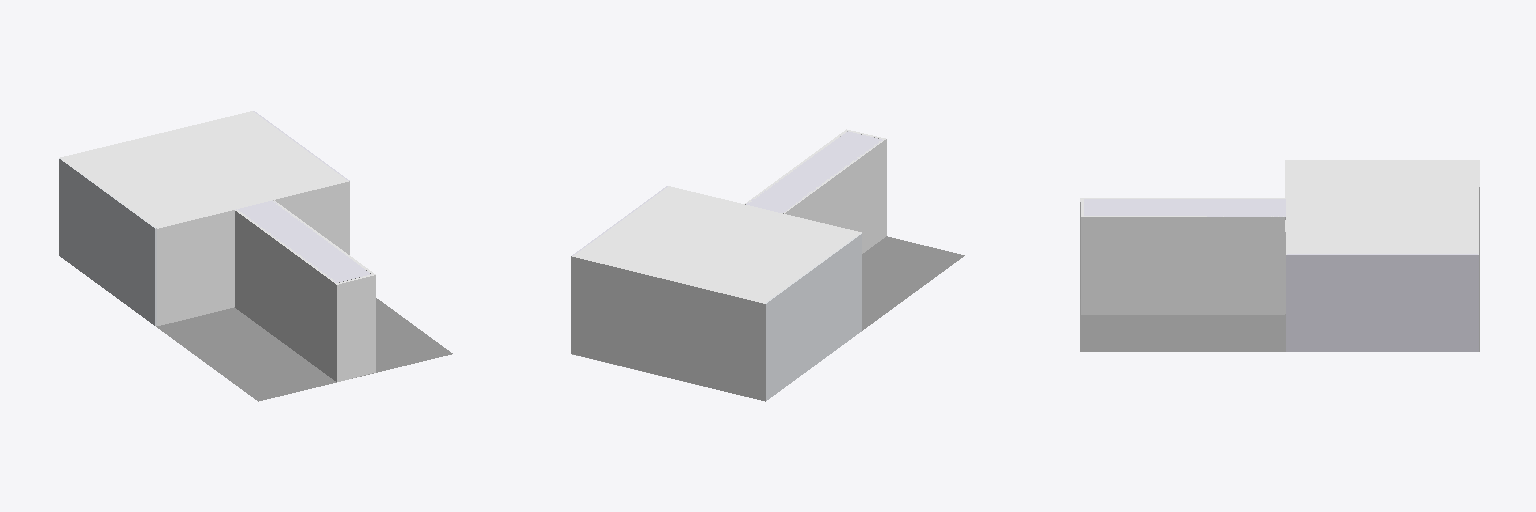
File: oficina_entrevista.obj
The picture shows the model from 3 angles: view 1: azimuth 30°, elevation 25°; view 2: azimuth 150°, elevation 25°; view 3: azimuth 270°, elevation 25°; orthographic projection.
Visible parts, largest first — view 1: room_8_45, ground_1, wall_4_22, wall_5_29, wall_1_4, wall_6_35, room_9_47; view 2: wall_2_10, room_8_45, wall_1_4, wall_5_29, ground_1, room_9_47; view 3: wall_7_41, wall_3_16, room_8_45, ground_1, room_9_47.
Part boxes in pixels (left/top/right/bottom): room_8_45: left=62, top=112, right=346, bottom=227; ground_1: left=156, top=298, right=452, bottom=401; wall_4_22: left=157, top=181, right=349, bottom=325; wall_5_29: left=235, top=211, right=336, bottom=381; wall_1_4: left=59, top=159, right=156, bottom=325; wall_6_35: left=337, top=275, right=375, bottom=381; room_9_47: left=236, top=200, right=370, bottom=282; wall_2_10: left=571, top=256, right=765, bottom=401; room_8_45: left=575, top=187, right=860, bottom=301; wall_1_4: left=766, top=234, right=861, bottom=400; wall_5_29: left=783, top=139, right=886, bottom=253; ground_1: left=572, top=236, right=964, bottom=396; room_9_47: left=746, top=131, right=882, bottom=212; wall_7_41: left=1081, top=217, right=1284, bottom=314; wall_3_16: left=1286, top=255, right=1478, bottom=351; room_8_45: left=1288, top=161, right=1476, bottom=253; ground_1: left=1080, top=285, right=1479, bottom=351; room_9_47: left=1084, top=199, right=1285, bottom=216.
Bounding box in the file's own units: 523 × 250 × 927.